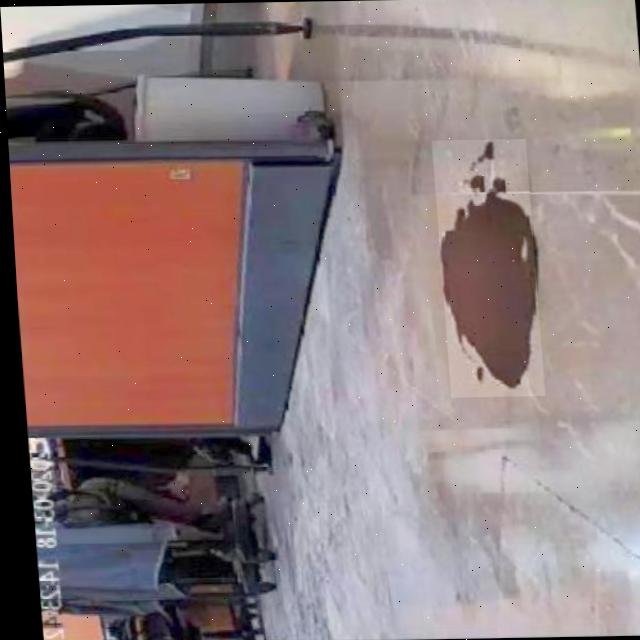spillage: (437, 139, 531, 395)
